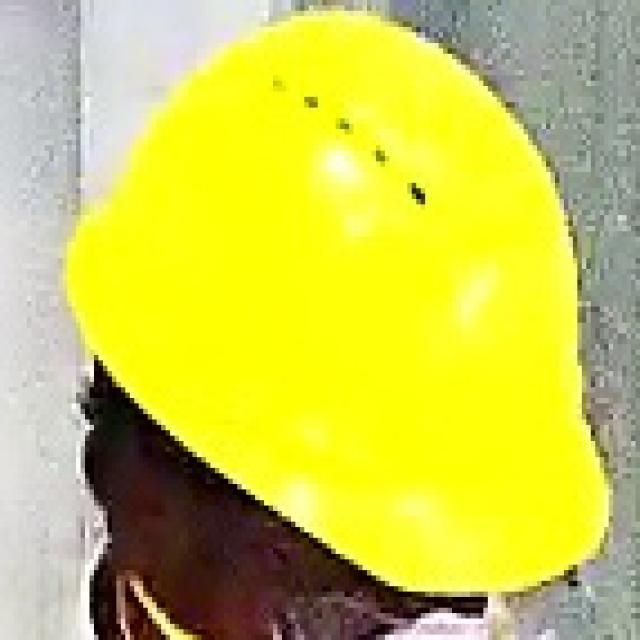yellow helmet: (66, 9, 618, 598)
